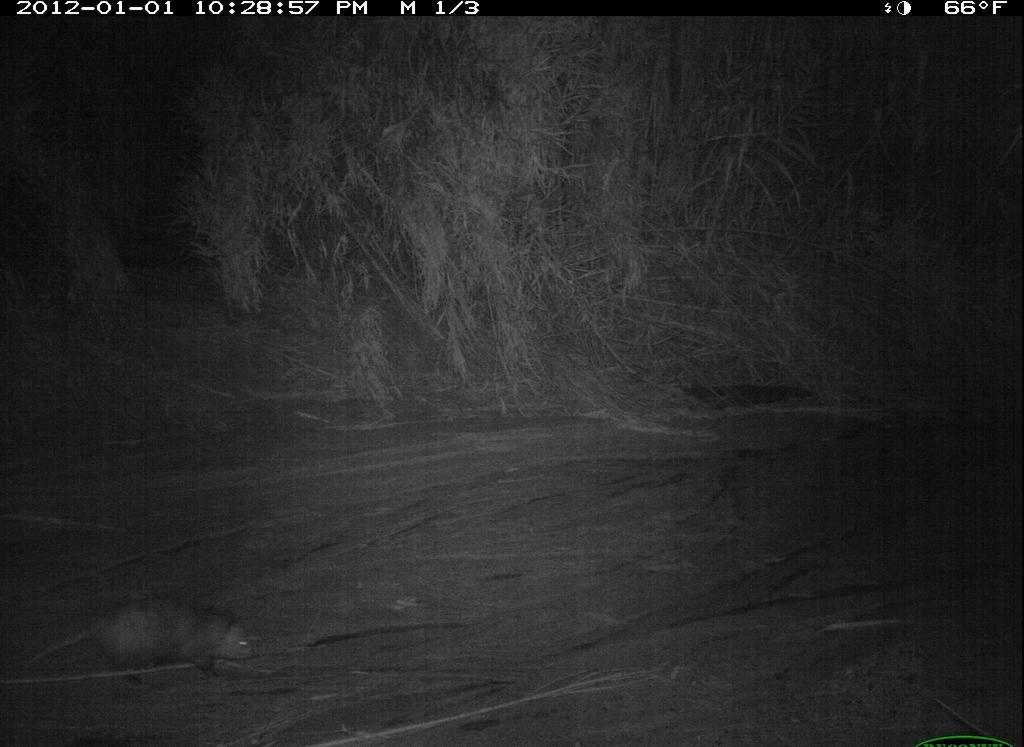opossum: (26, 593, 264, 703)
